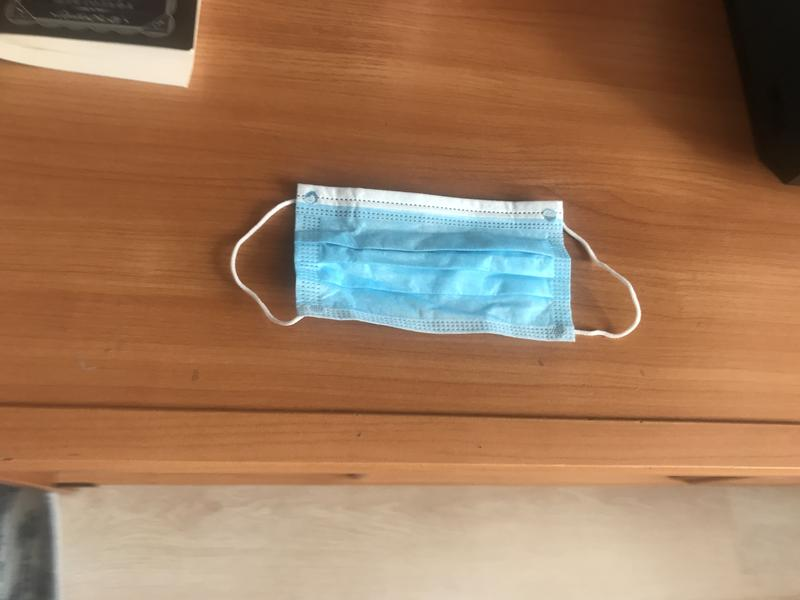medical_mask: (229, 182, 643, 345)
